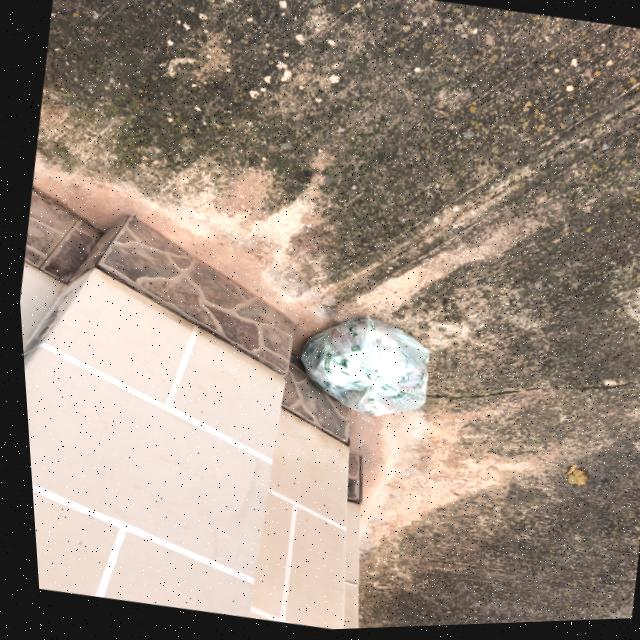Organic Waste -White Bag-: (280, 306, 439, 437)
